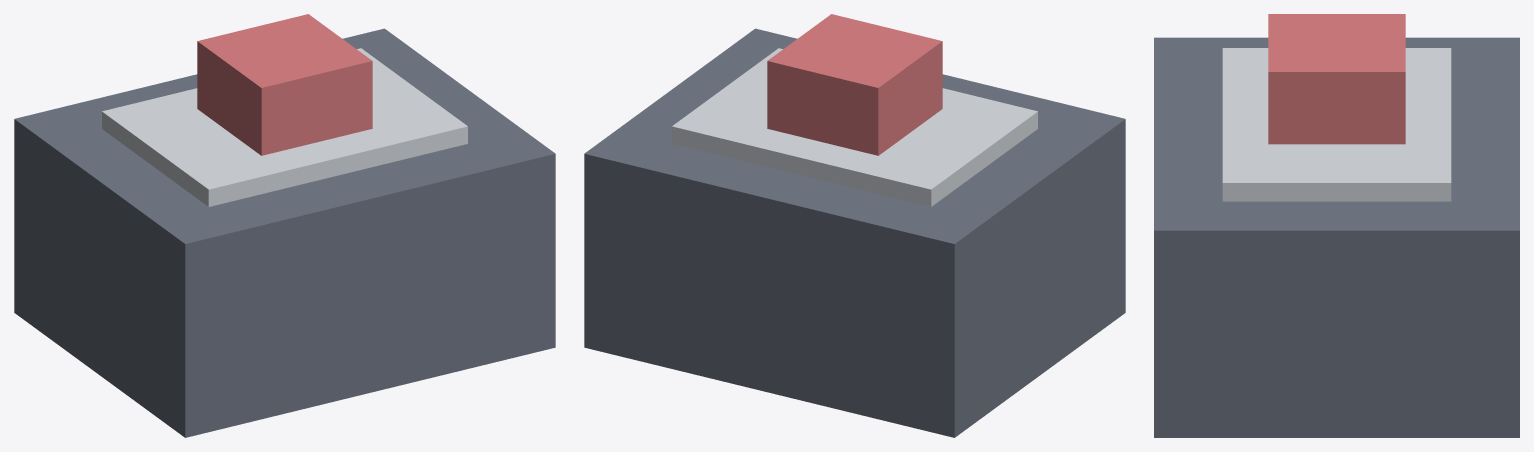
The picture shows the model from 3 angles, left to right: view 1: azimuth 30°, elevation 25°; view 2: azimuth 150°, elevation 25°; view 3: azimuth 270°, elevation 25°; orthographic projection. The views are drawn at different scales.
Visible parts, largest first — view 1: 307_L126_SW3_polymer, 307_L126_SW3_silver, 307_L126_SW3_red; view 2: 307_L126_SW3_polymer, 307_L126_SW3_silver, 307_L126_SW3_red; view 3: 307_L126_SW3_polymer, 307_L126_SW3_silver, 307_L126_SW3_red.
Part boxes in pixels (x1,y1,x2,y2): 307_L126_SW3_polymer: [14, 28, 555, 437]; 307_L126_SW3_silver: [102, 48, 467, 206]; 307_L126_SW3_red: [197, 14, 372, 155]; 307_L126_SW3_polymer: [584, 28, 1125, 437]; 307_L126_SW3_silver: [672, 48, 1037, 206]; 307_L126_SW3_red: [767, 14, 942, 155]; 307_L126_SW3_polymer: [1154, 37, 1519, 437]; 307_L126_SW3_silver: [1222, 48, 1451, 201]; 307_L126_SW3_red: [1268, 14, 1405, 144].
Bounding box in the file's own units: 0.01 × 0.0072 × 0.008.
